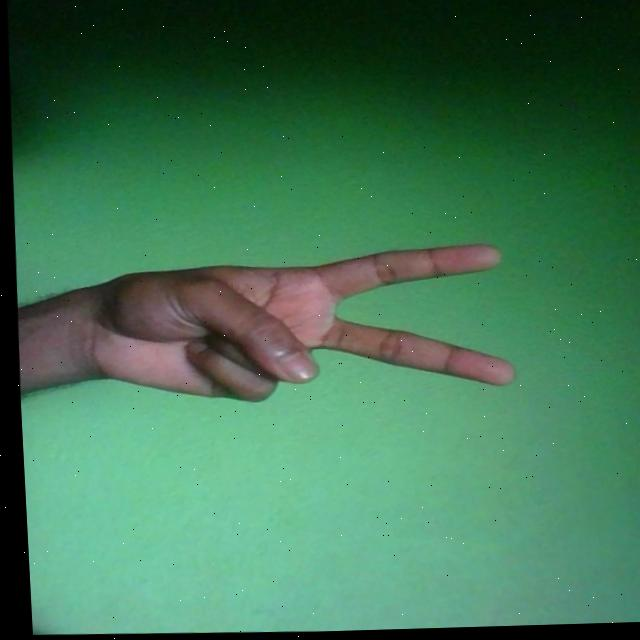Peace: (66, 238, 516, 413)
